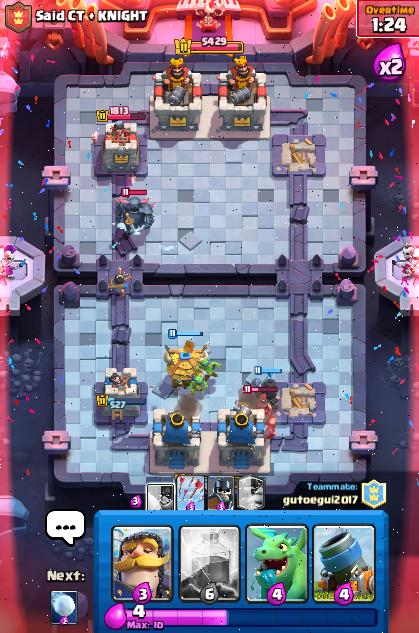EKingTower: (150, 67, 201, 130), (218, 65, 267, 130)
EnemyPrincessTower: (102, 121, 137, 172)
OBigPekka: (116, 195, 153, 234)
ODarkPrince: (264, 378, 275, 404)
OGoblinHut: (165, 350, 204, 390)
OPrincess: (110, 269, 131, 296)
OSpearGoblin: (203, 360, 219, 380), (190, 374, 203, 394)
OwnKingTower: (218, 406, 269, 471), (150, 409, 199, 471)
OwnPrincessTower: (95, 368, 146, 421)
TowerDown: (272, 134, 325, 176), (277, 382, 325, 424)
